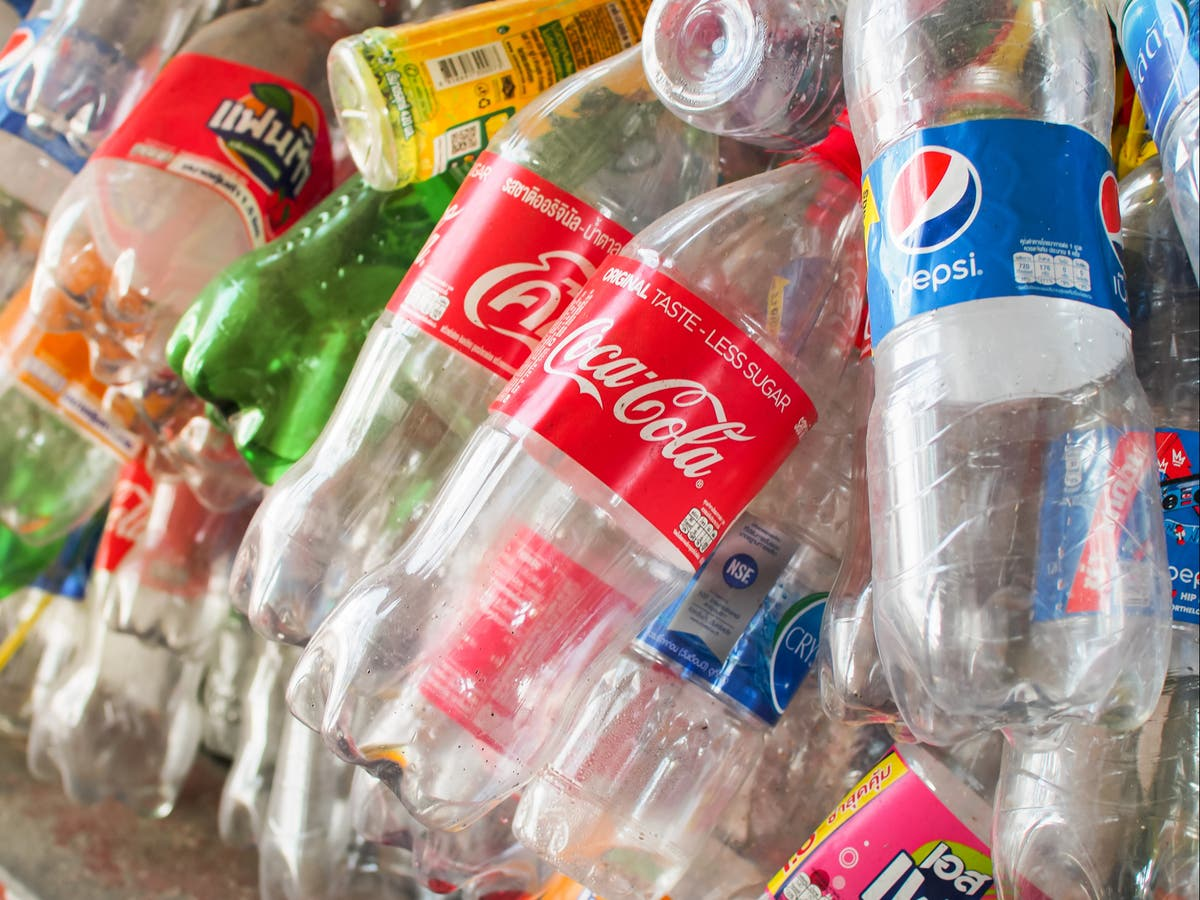plastic_bottle: (806, 1, 1185, 793), (453, 234, 884, 900), (114, 160, 742, 552), (176, 349, 602, 900), (10, 315, 388, 900), (253, 1, 938, 295), (963, 66, 1200, 884), (33, 2, 385, 490), (694, 578, 1200, 898), (3, 1, 348, 345), (569, 1, 976, 188), (1062, 3, 1200, 298)
